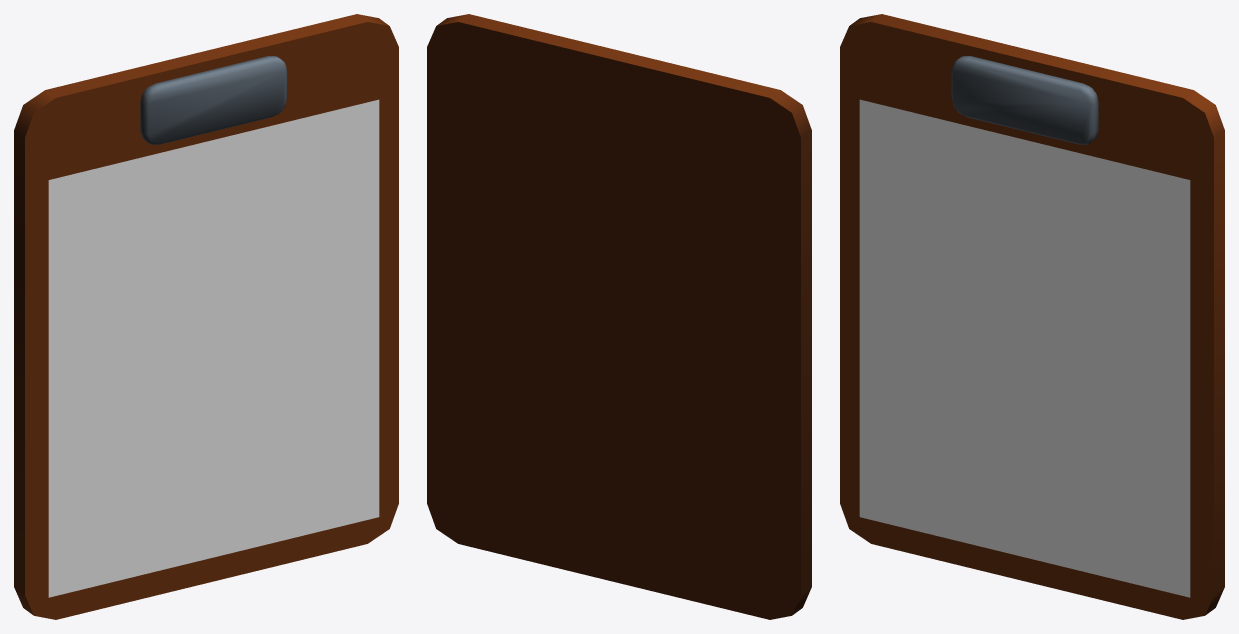
Rendered from sign_here_printed.fbx.
3 views of the same model, side by side, from view 1: azimuth 30°, elevation 25°; view 2: azimuth 150°, elevation 25°; view 3: azimuth 330°, elevation 25° (orthographic).
Visible parts, largest first — view 1: Printed sign, Board; view 2: Board; view 3: Printed sign, Board.
Boxes of the visible parts, bbox=[...] form: Printed sign: bbox=[48, 99, 379, 597]; Board: bbox=[14, 14, 398, 619]; Board: bbox=[427, 14, 811, 619]; Printed sign: bbox=[859, 99, 1190, 597]; Board: bbox=[840, 14, 1224, 619].
Size of the model in its own units: 0.12 by 0.16 by 0.009.
